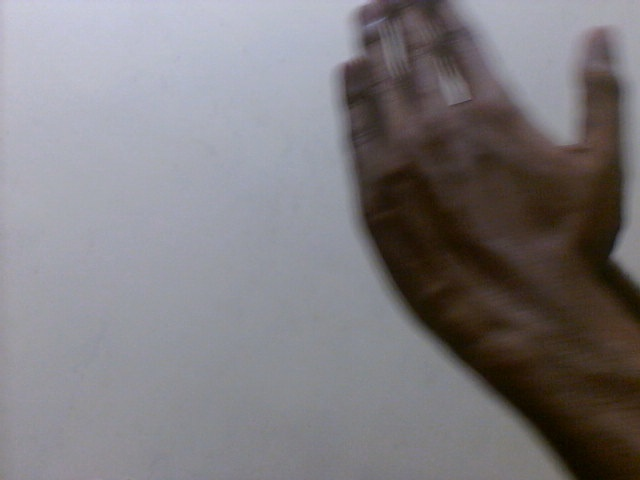hand: (322, 1, 631, 334)
